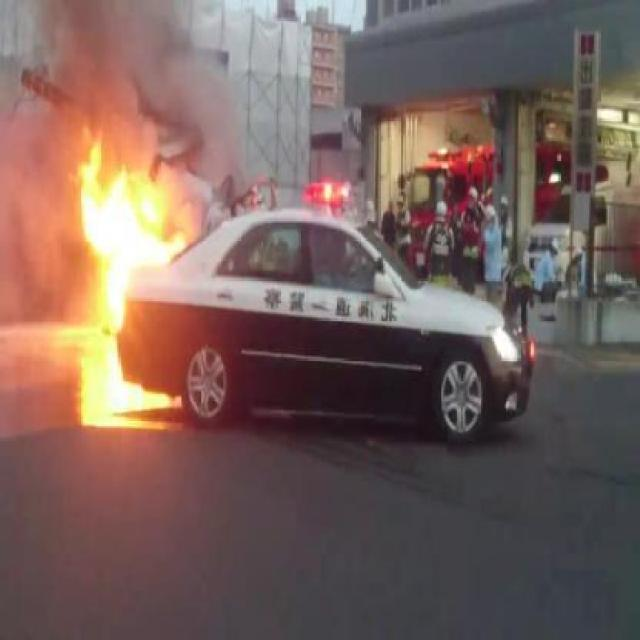Fire: (77, 129, 191, 278), (86, 326, 122, 426), (93, 264, 129, 336), (118, 374, 140, 422), (139, 392, 173, 408)
